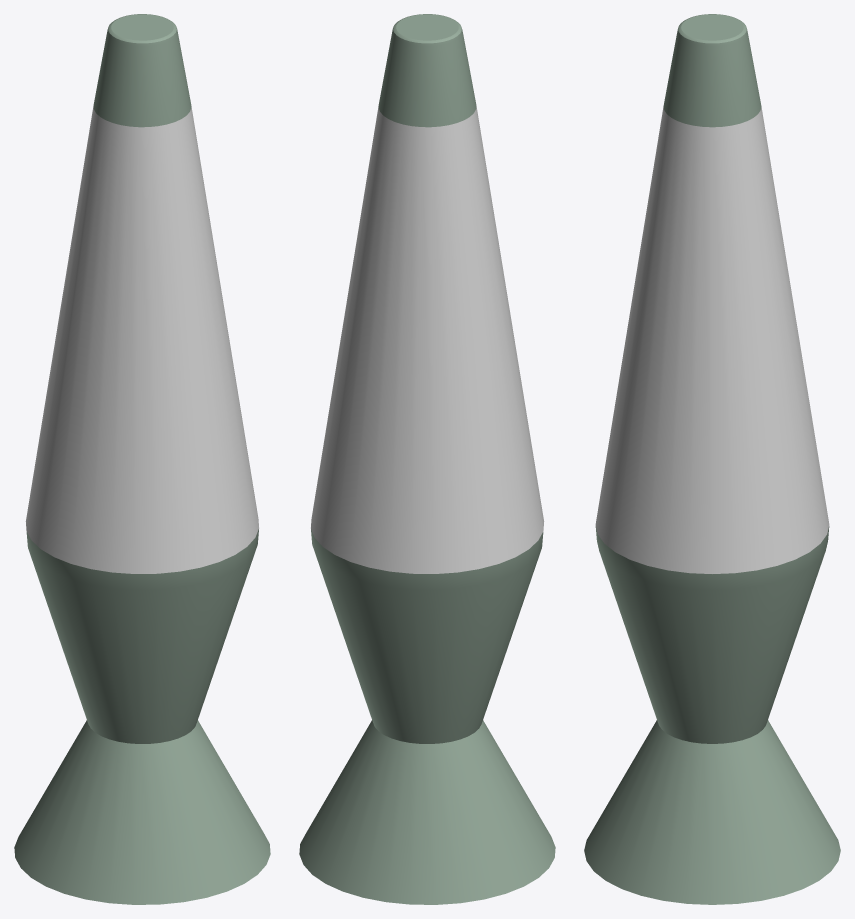
File: lampe à lave.fbx
3 views of the same model, side by side, from view 1: azimuth 30°, elevation 25°; view 2: azimuth 150°, elevation 25°; view 3: azimuth 270°, elevation 25° (orthographic).
Visible parts, largest first — view 1: Lampe à Lave; view 2: Lampe à Lave; view 3: Lampe à Lave.
Boxes of the visible parts, box(x1,y1,x2,y2) form: Lampe à Lave: box(14, 14, 270, 904); Lampe à Lave: box(299, 14, 555, 904); Lampe à Lave: box(584, 14, 840, 904).
Size of the model in its own units: 228 by 808 by 228.
